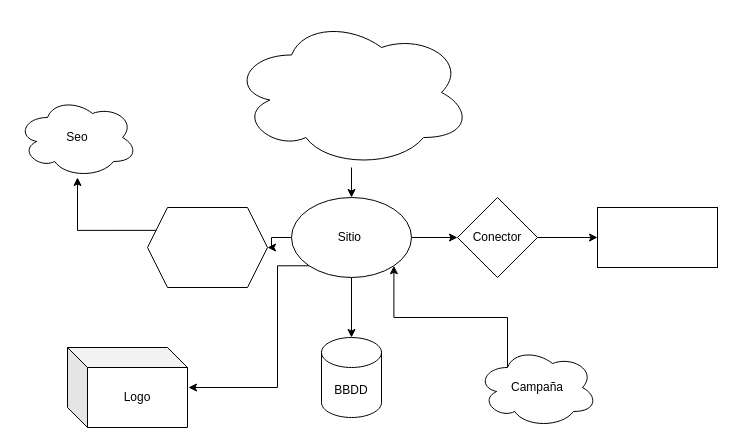
Some shapes in this 735 by 445 pixel diagram are drawn without their labels. The shapes that lost their labels are listed below. From the top down, each one's centre as x and y in pixels, then its label:
At point 351,92: "DIGITAL OCEAN".
At point 207,247: "Motor".
At point 657,237: "Clientgo".
